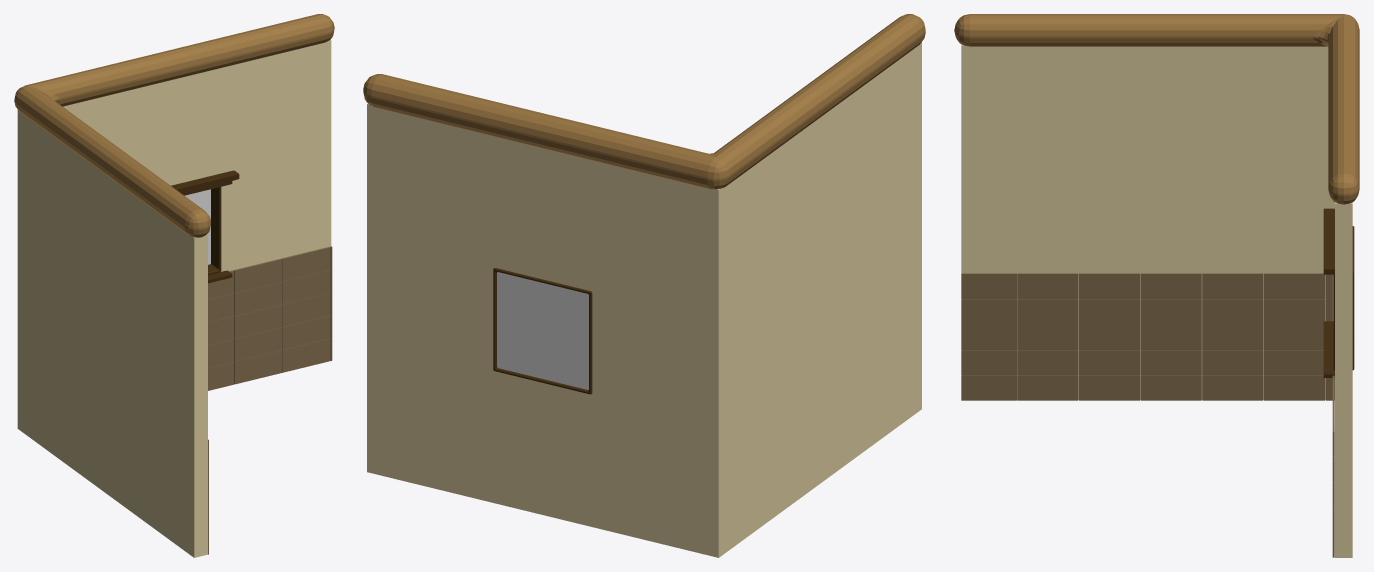
File: CornerWallwithWindow01.fbx
3 views of the same model, side by side, from view 1: azimuth 30°, elevation 25°; view 2: azimuth 150°, elevation 25°; view 3: azimuth 270°, elevation 25° (orthographic). The views are drawn at different scales.
Visible parts, largest first — view 1: CornerWall-Window02; view 2: CornerWall-Window02; view 3: CornerWall-Window02.
Part boxes in pixels (bbox=[...]): CornerWall-Window02: bbox=[14, 14, 334, 557]; CornerWall-Window02: bbox=[363, 14, 925, 557]; CornerWall-Window02: bbox=[954, 14, 1359, 557].
Size of the model in its own units: 207 by 215 by 207.
